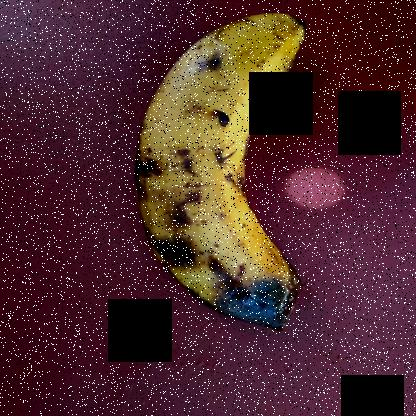overripe: (122, 1, 366, 255)
rotten: (121, 182, 313, 341)
